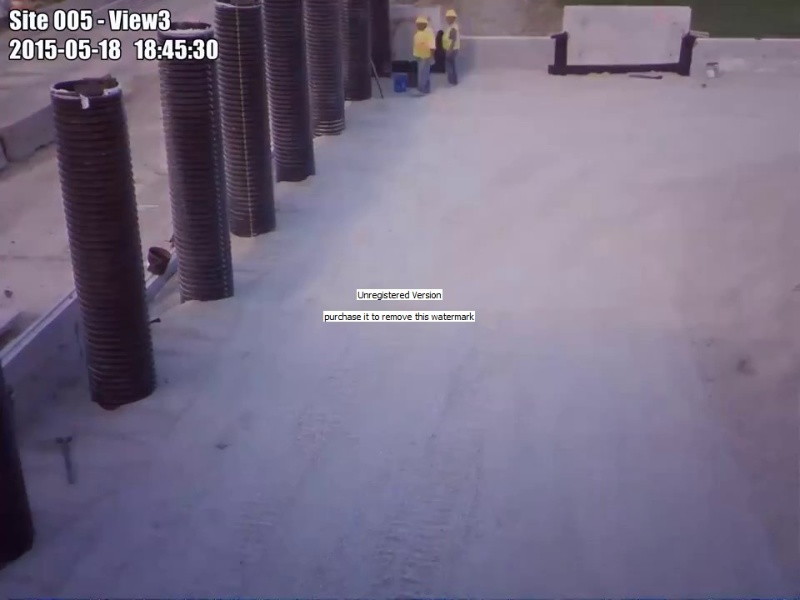columns: (49, 76, 158, 410), (156, 19, 236, 305), (214, 1, 277, 239), (261, 1, 317, 186), (306, 1, 346, 138), (343, 1, 374, 103), (370, 1, 394, 76)
hardhat: (414, 16, 431, 24), (444, 9, 458, 18)
person: (411, 16, 438, 93), (443, 8, 462, 87)
wall: (468, 3, 800, 77)
